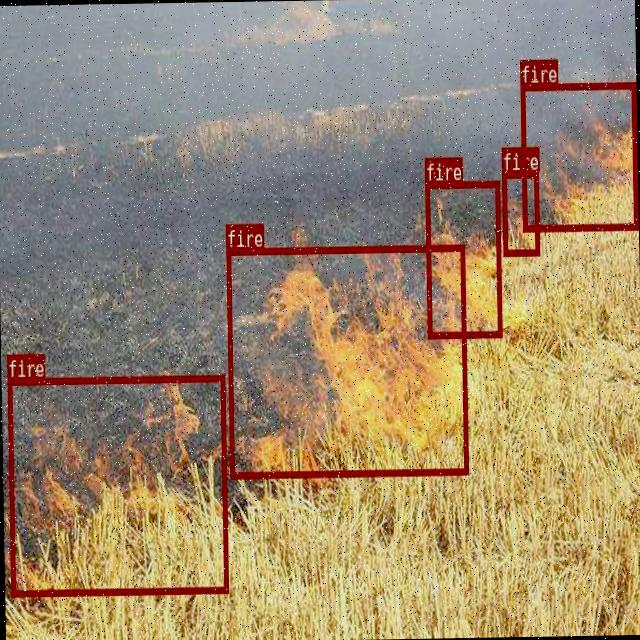fire: (225, 243, 468, 477), (7, 374, 227, 596), (518, 80, 636, 230), (424, 180, 502, 336), (500, 168, 538, 254)
